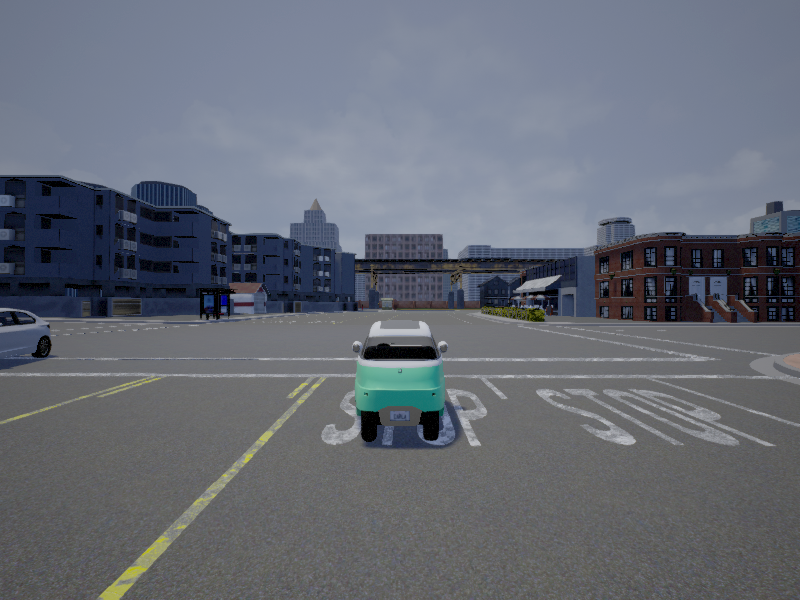Benign: (351, 320, 448, 441), (1, 306, 55, 359)
